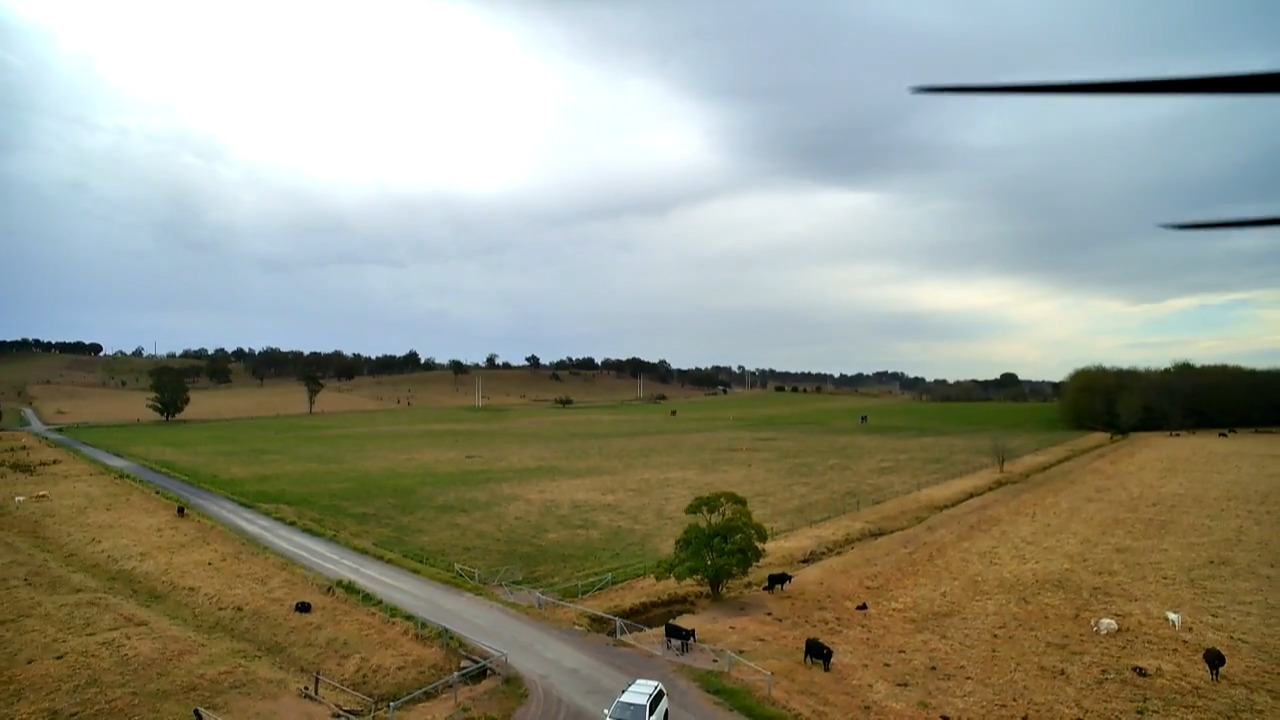Car: (601, 678, 669, 719)
